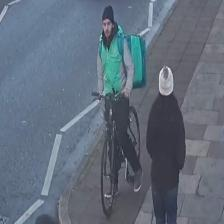person: (96, 5, 142, 196), (146, 64, 186, 224)
